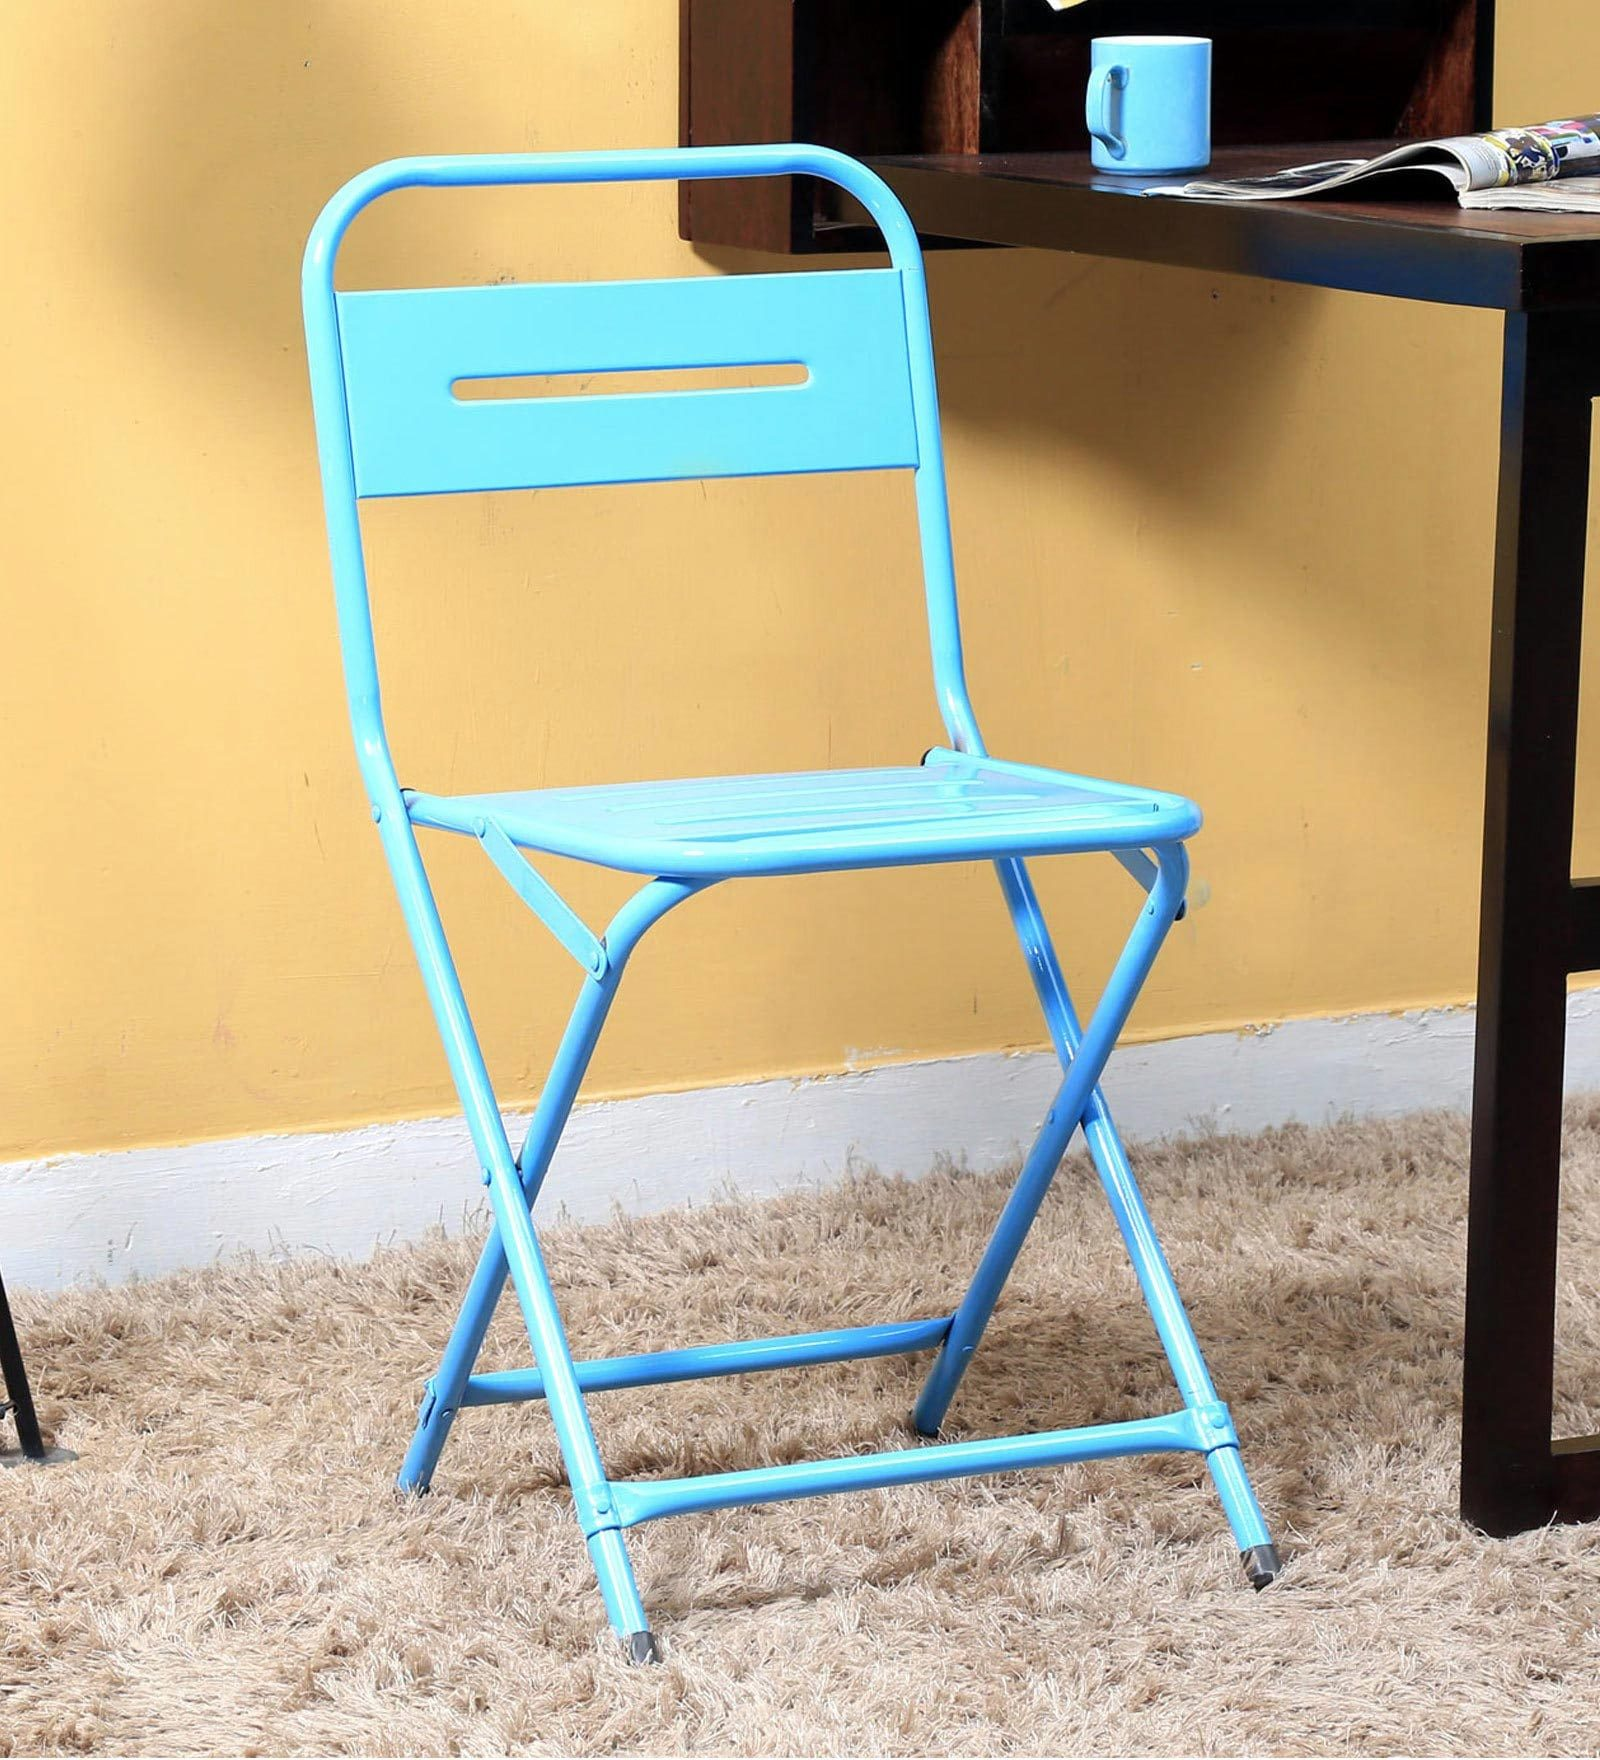Marandoo Grunge Blue Outdoor Folding Chair by Bohemiana: (293, 149, 1320, 1666)
